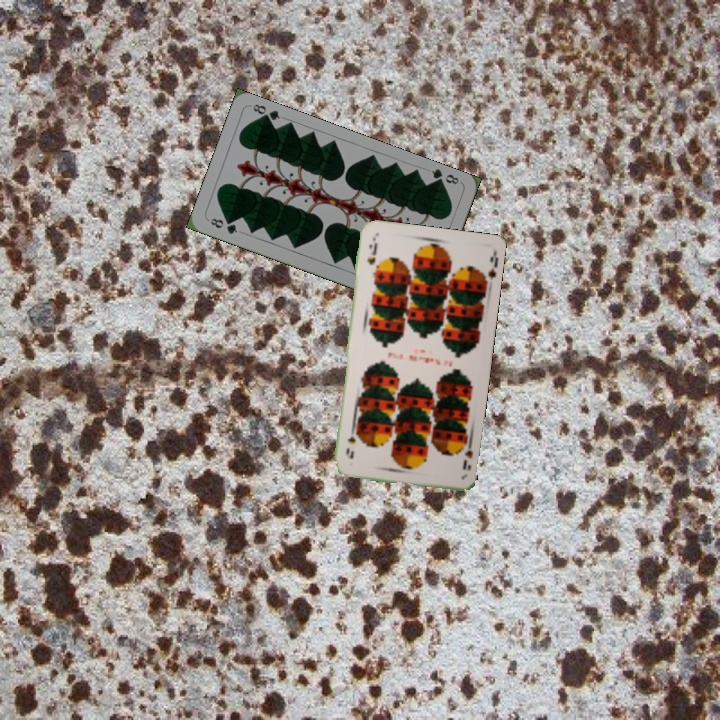G8: (427, 165, 461, 189), (206, 214, 240, 237)
S9: (456, 436, 476, 472), (363, 240, 378, 267)
